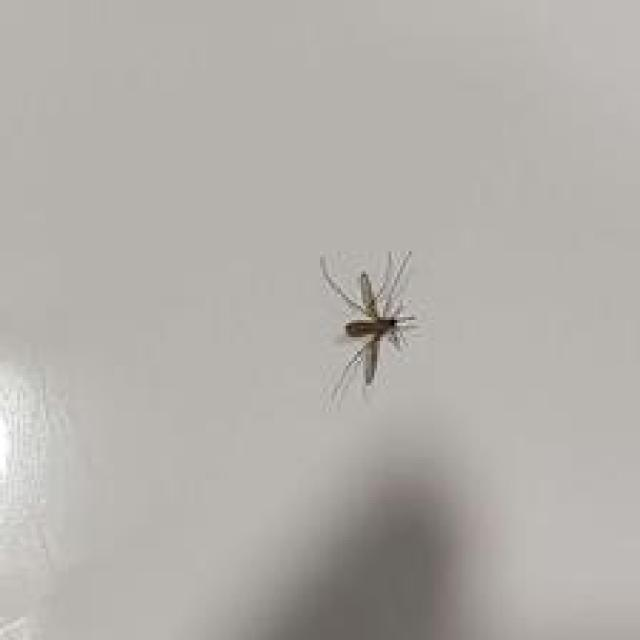Culex: (318, 248, 418, 403)
